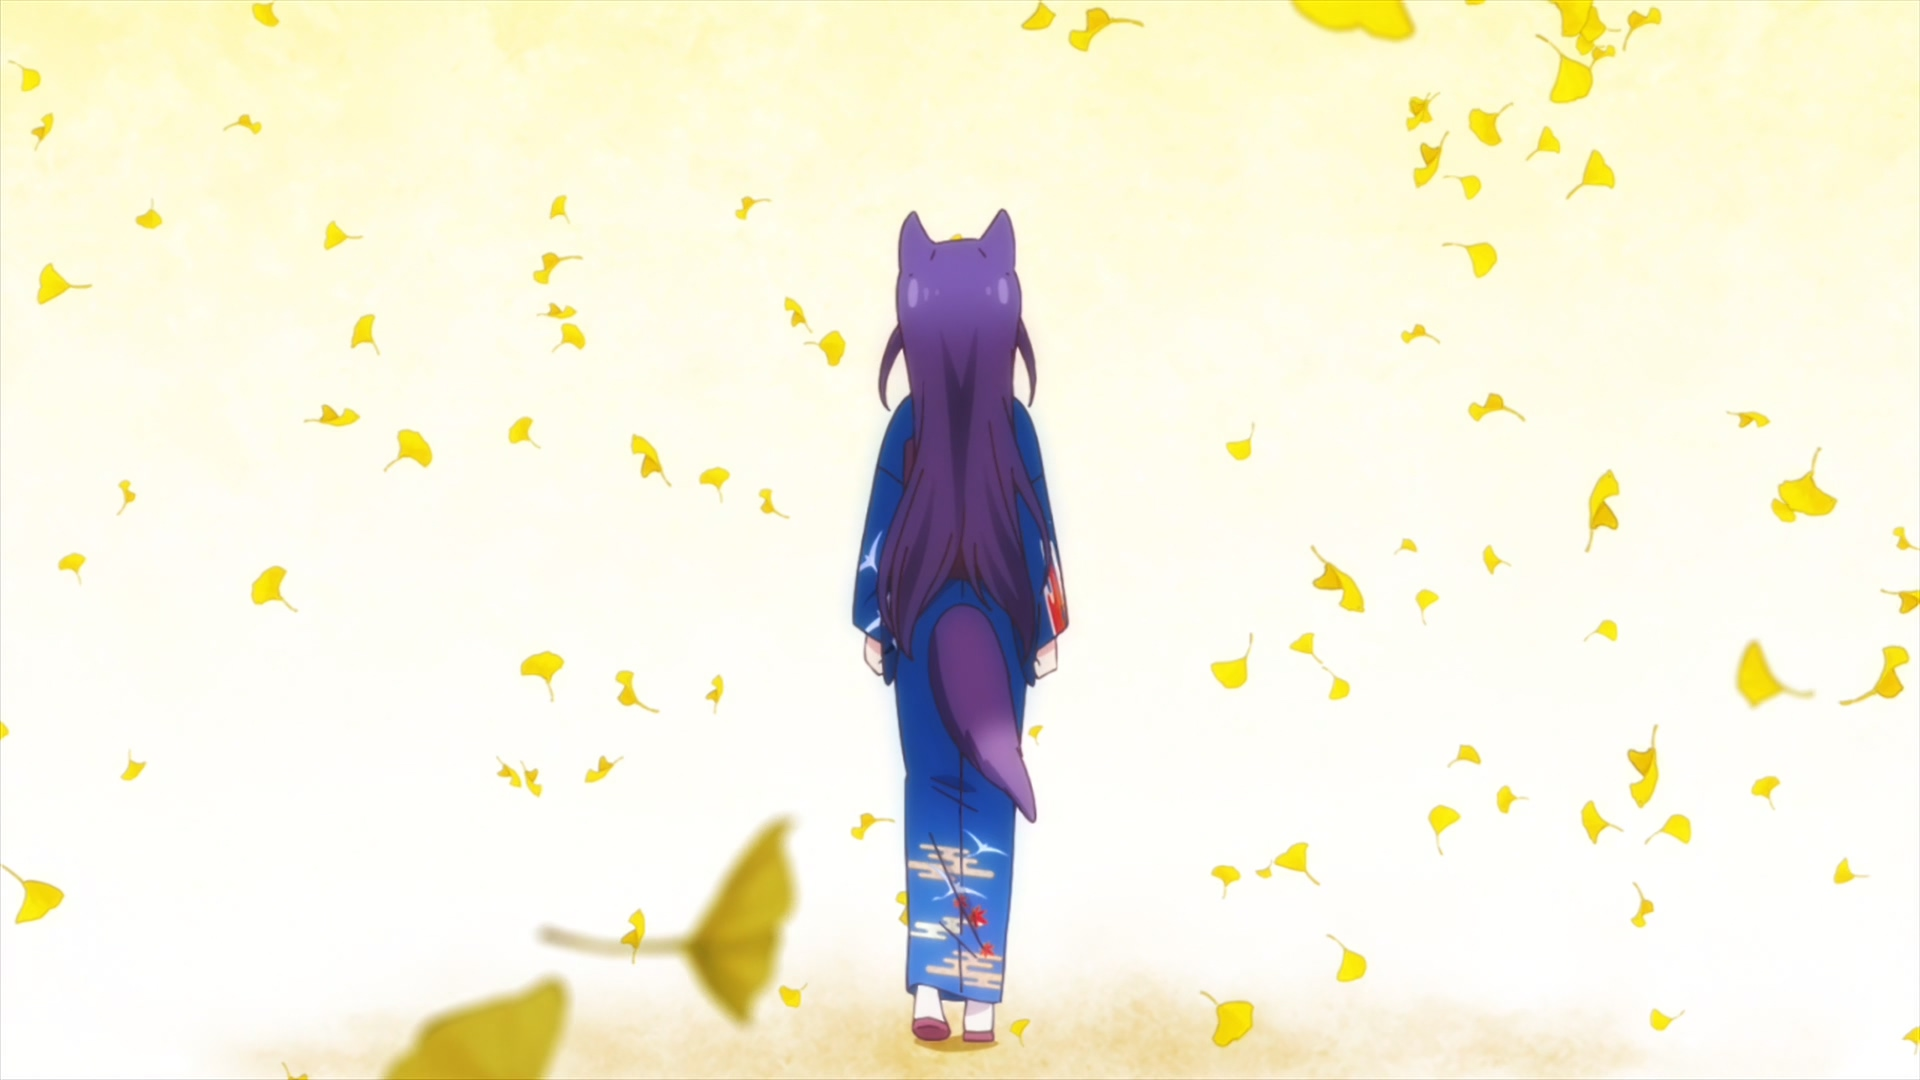皋: (853, 208, 1067, 1044)
